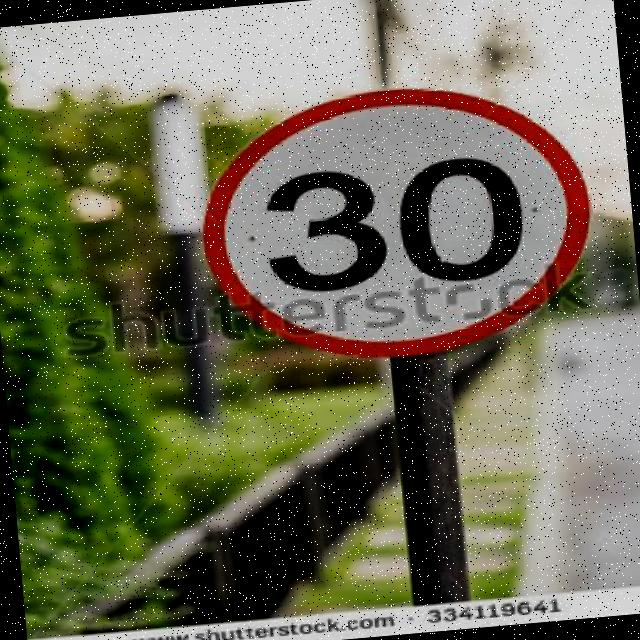Ograniczenie predkosci do 30: (196, 73, 604, 370)
